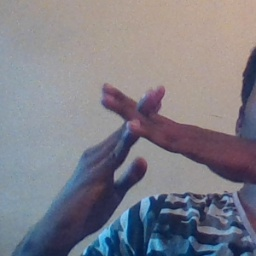W: (84, 68, 192, 200)
